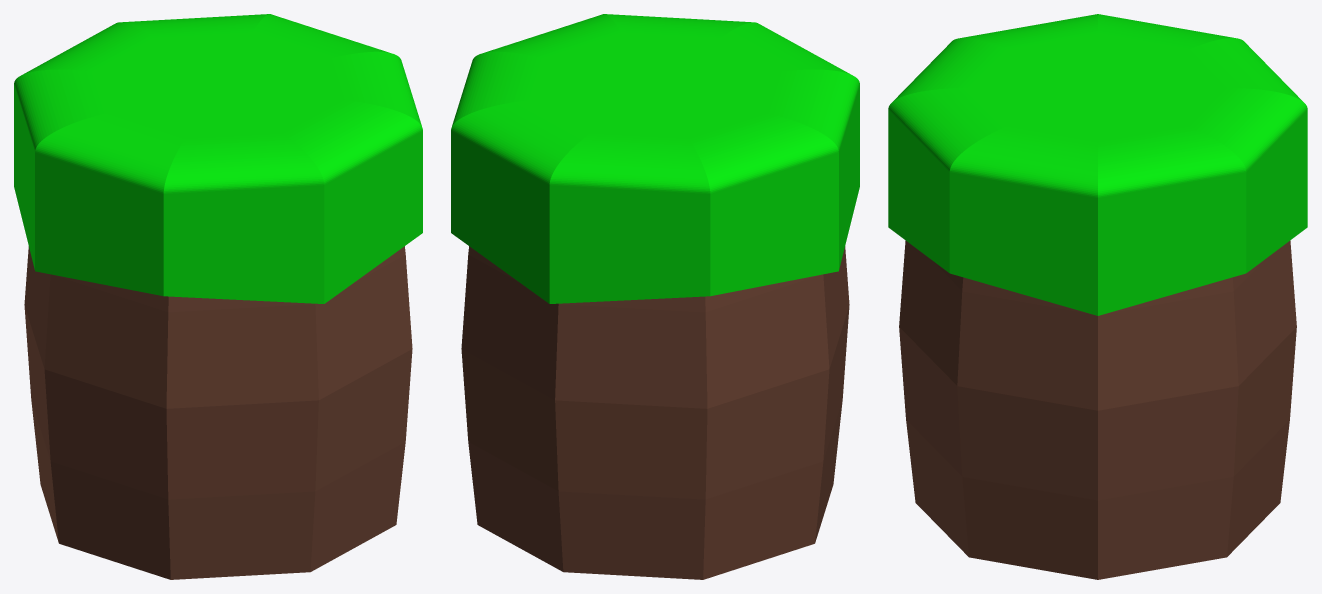
The model's file is low_poly_cartoon_nature_models__roblox.glb.
The picture shows the model from 3 angles, left to right: view 1: azimuth 30°, elevation 25°; view 2: azimuth 150°, elevation 25°; view 3: azimuth 270°, elevation 25°; orthographic projection.
Parts seen in each view (by area): view 1: Cylinder, Cylinder.001; view 2: Cylinder, Cylinder.001; view 3: Cylinder, Cylinder.001.
Part boxes in pixels (<box>): Cylinder: <box>24,246,412,579</box>; Cylinder.001: <box>14,14,422,303</box>; Cylinder: <box>461,246,849,579</box>; Cylinder.001: <box>451,14,859,303</box>; Cylinder: <box>899,240,1296,579</box>; Cylinder.001: <box>888,14,1307,315</box>.
Bounding box in the file's own units: 3.19 × 3.48 × 3.19.
